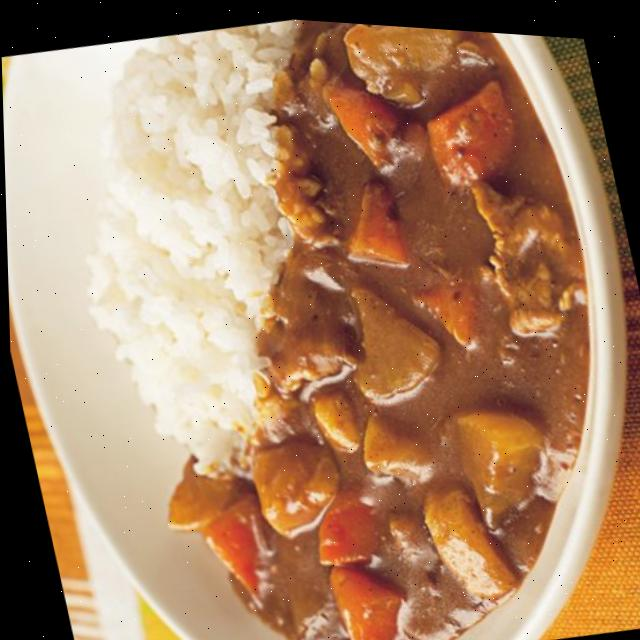Wet: (27, 1, 640, 640)
